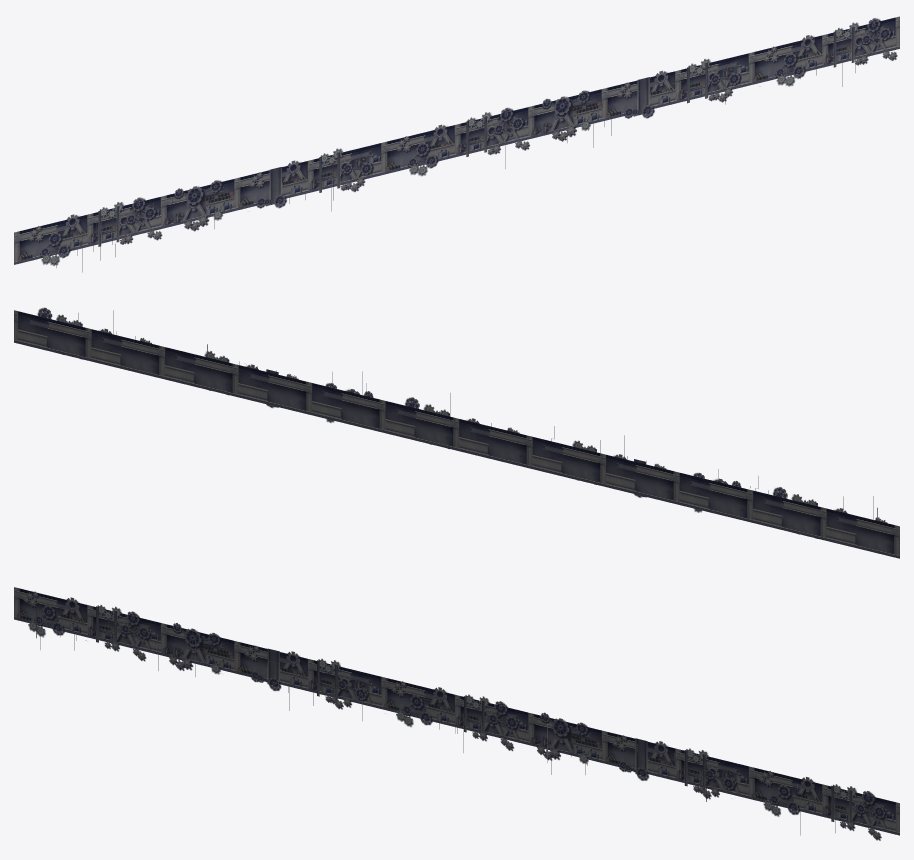
Rendered from toonblitz.glb.
3 renders of one model, top to bottom at view 1: azimuth 30°, elevation 25°; view 2: azimuth 150°, elevation 25°; view 3: azimuth 330°, elevation 25°, orthographic.
Visible parts, largest first — view 1: BGWall, gear1, towers, beams, gear3_front, generators, spools, gear2_back, boilers, pipes, gear3_back, gear2_front; view 2: BGWall, gear2_back, gear1; view 3: BGWall, gear1, towers, beams, generators, gear3_front, spools, gear2_back, boilers, pipes, gear3_back.
Part boxes in pixels (bbox=[...]): BGWall: bbox=[14, 16, 899, 264]; gear1: bbox=[40, 18, 892, 258]; towers: bbox=[61, 33, 886, 238]; beams: bbox=[44, 26, 883, 253]; gear3_front: bbox=[120, 51, 897, 244]; generators: bbox=[70, 29, 894, 248]; spools: bbox=[17, 45, 850, 261]; gear2_back: bbox=[99, 22, 859, 220]; boilers: bbox=[88, 31, 879, 244]; pipes: bbox=[56, 33, 899, 272]; gear3_back: bbox=[29, 46, 779, 242]; gear2_front: bbox=[41, 74, 794, 265]; BGWall: bbox=[14, 310, 899, 558]; gear2_back: bbox=[56, 314, 817, 512]; gear1: bbox=[37, 307, 787, 498]; BGWall: bbox=[14, 587, 899, 835]; gear1: bbox=[34, 605, 886, 819]; towers: bbox=[61, 597, 886, 829]; beams: bbox=[41, 606, 878, 822]; generators: bbox=[69, 621, 894, 820]; gear3_front: bbox=[104, 641, 881, 840]; spools: bbox=[16, 614, 849, 811]; gear2_back: bbox=[97, 605, 857, 800]; boilers: bbox=[88, 625, 875, 815]; pipes: bbox=[36, 598, 873, 835]; gear3_back: bbox=[23, 591, 774, 787].
Bounding box in the file's own units: 1485 × 79.35 × 60.67.
Materials: 7 (7 with a texture image).
